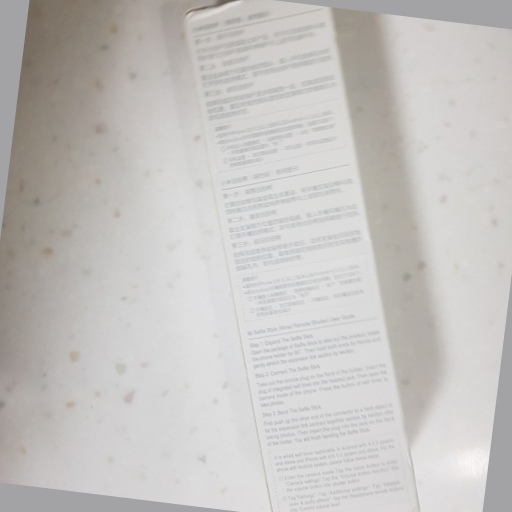Paper_0: (181, 2, 423, 512)
